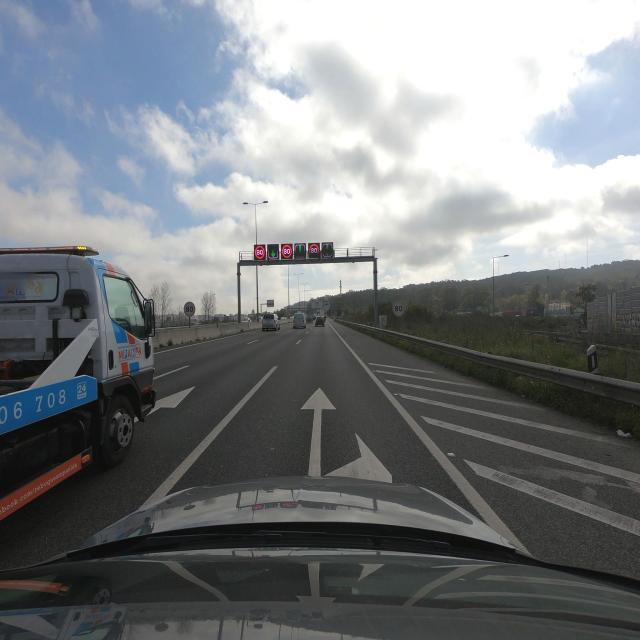car: (261, 312, 281, 332), (292, 312, 306, 330), (314, 314, 325, 328)
